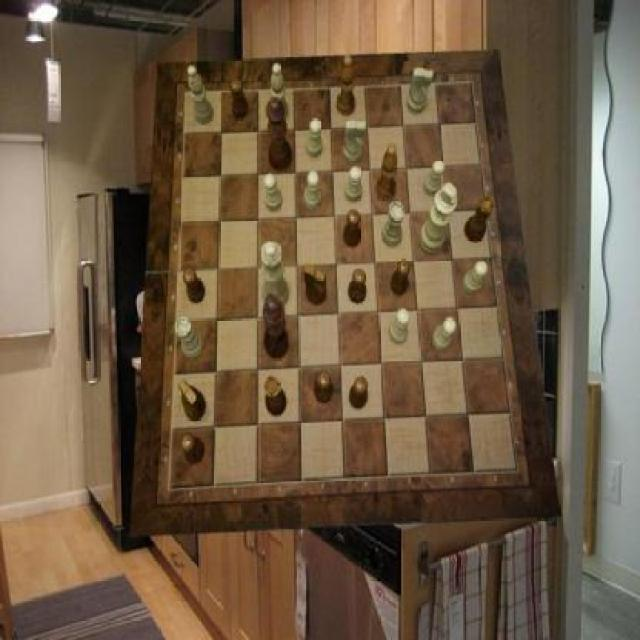bishop: (375, 143, 398, 201), (337, 55, 356, 117)
black-bishop: (263, 294, 289, 359)
black-king: (179, 378, 206, 421), (305, 263, 327, 305)
black-knight: (182, 434, 206, 466), (183, 268, 205, 302), (391, 260, 411, 296), (344, 209, 362, 247), (231, 80, 248, 120), (314, 372, 333, 405), (348, 269, 365, 304), (351, 377, 368, 411)
black-pawn: (266, 97, 293, 171)
black-queen: (464, 197, 494, 243), (264, 377, 288, 417)
black-rook: (189, 66, 214, 125), (271, 63, 288, 122)
white-bishop: (419, 181, 456, 254)
white-king: (408, 68, 434, 114), (343, 118, 366, 164)
white-knight: (463, 262, 488, 296), (432, 317, 456, 351), (423, 159, 445, 196), (264, 174, 284, 211), (391, 310, 411, 346), (304, 171, 322, 211), (306, 118, 323, 158), (345, 166, 362, 202)
white-pawn: (260, 243, 289, 311)
white-queen: (176, 317, 204, 359), (382, 201, 404, 247)
